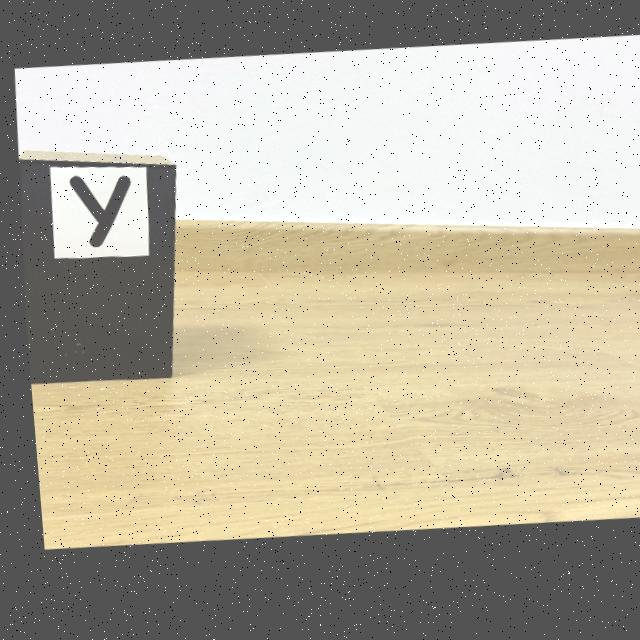Y: (66, 177, 127, 248)
